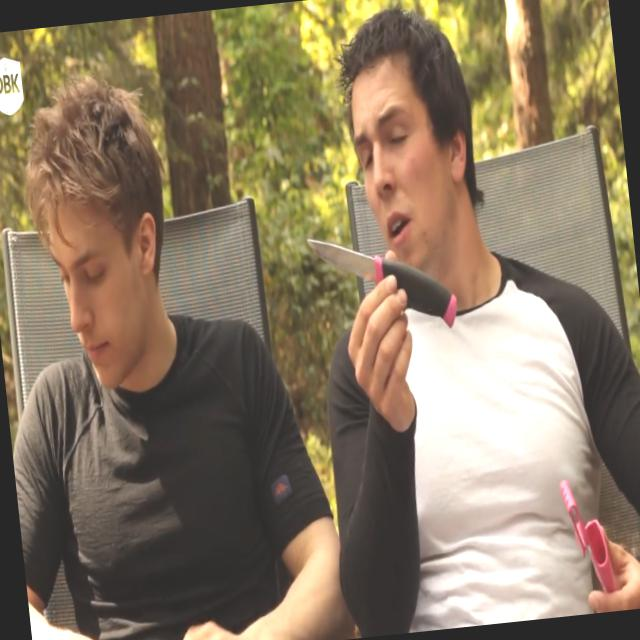knife: (300, 208, 465, 358)
